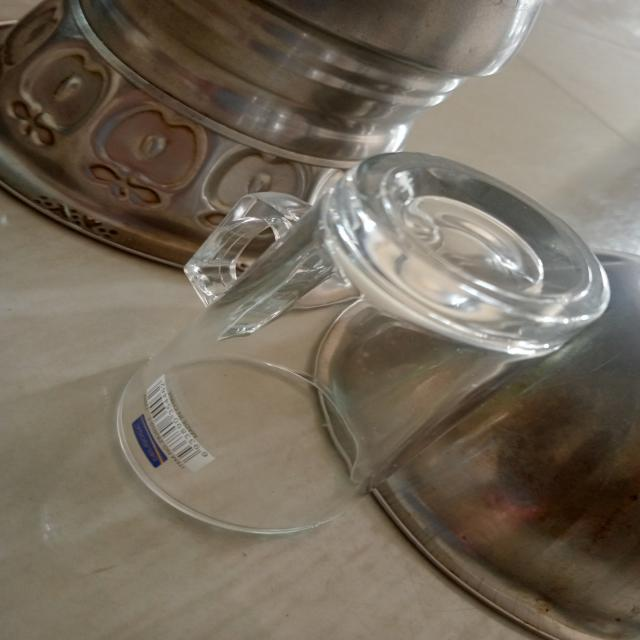glass-VX4N: (114, 152, 608, 540)
